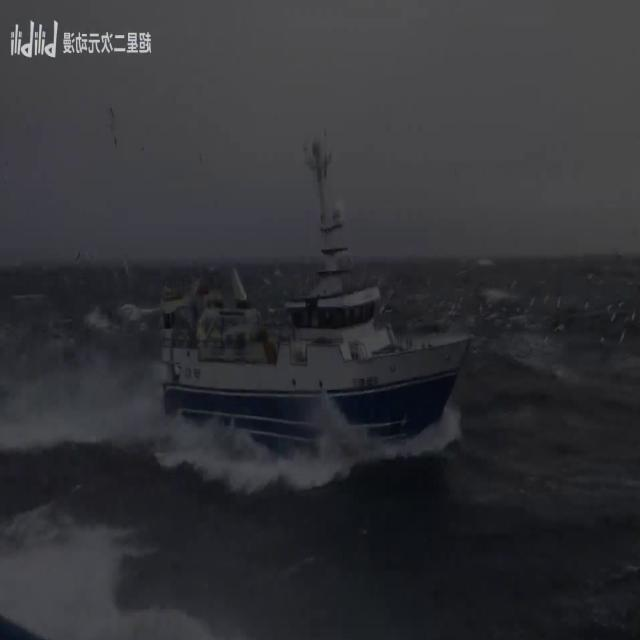houseboat: (168, 140, 468, 433)
